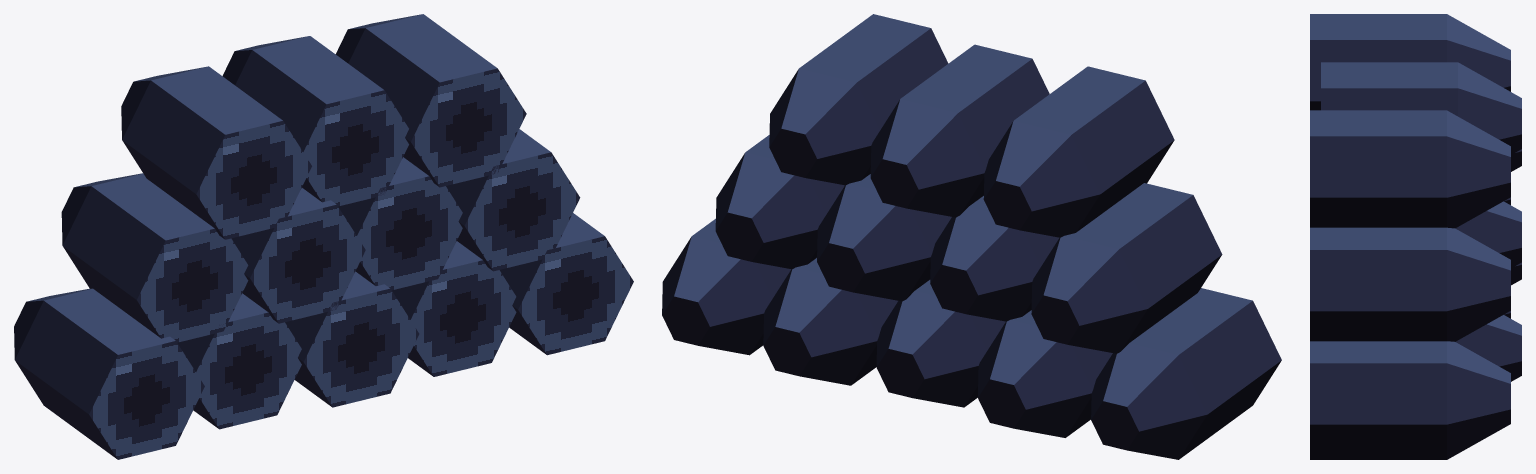
Rendered from fuellung_flaschen_blau.glb.
3 views of the same model, side by side, from view 1: azimuth 30°, elevation 25°; view 2: azimuth 150°, elevation 25°; view 3: azimuth 270°, elevation 25° (orthographic). The views are drawn at different scales.
Visible parts, largest first — view 1: flaschen_blau; view 2: flaschen_blau; view 3: flaschen_blau.
Part boxes in pixels (x1=…): flaschen_blau: x1=14, y1=14, x2=633, y2=459; flaschen_blau: x1=662, y1=14, x2=1281, y2=459; flaschen_blau: x1=1310, y1=14, x2=1521, y2=459.
Size of the model in its own units: 0.635 by 0.3329 by 0.232.
Materials: 1 (1 with a texture image).
